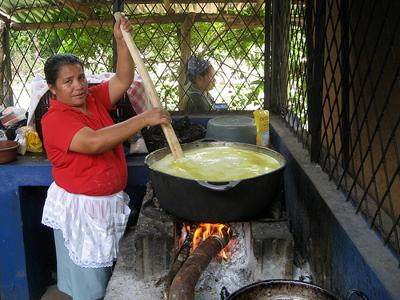person: (38, 19, 175, 300)
